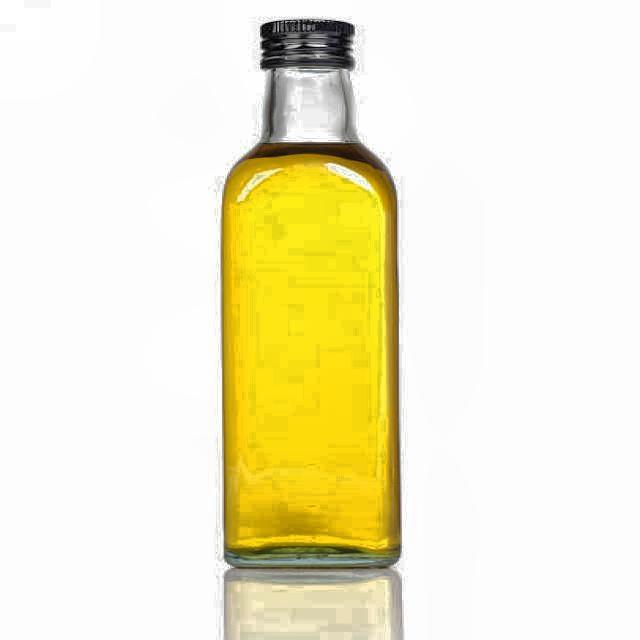glass: (221, 20, 403, 588)
